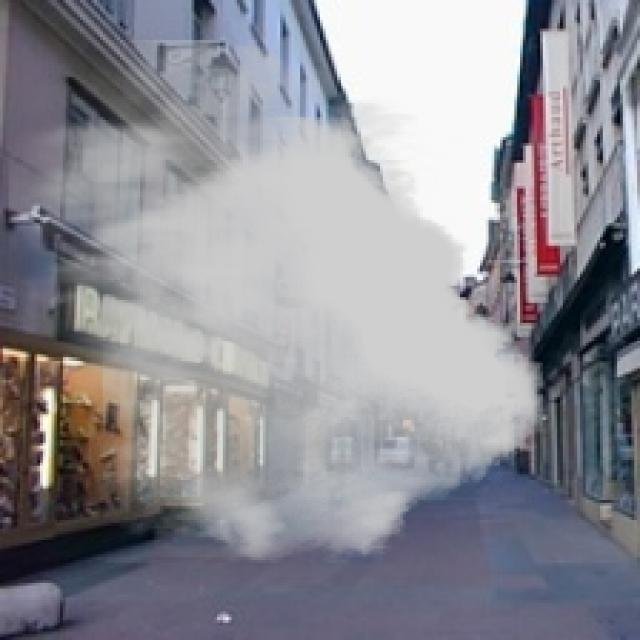Smoke: (8, 40, 543, 563)
